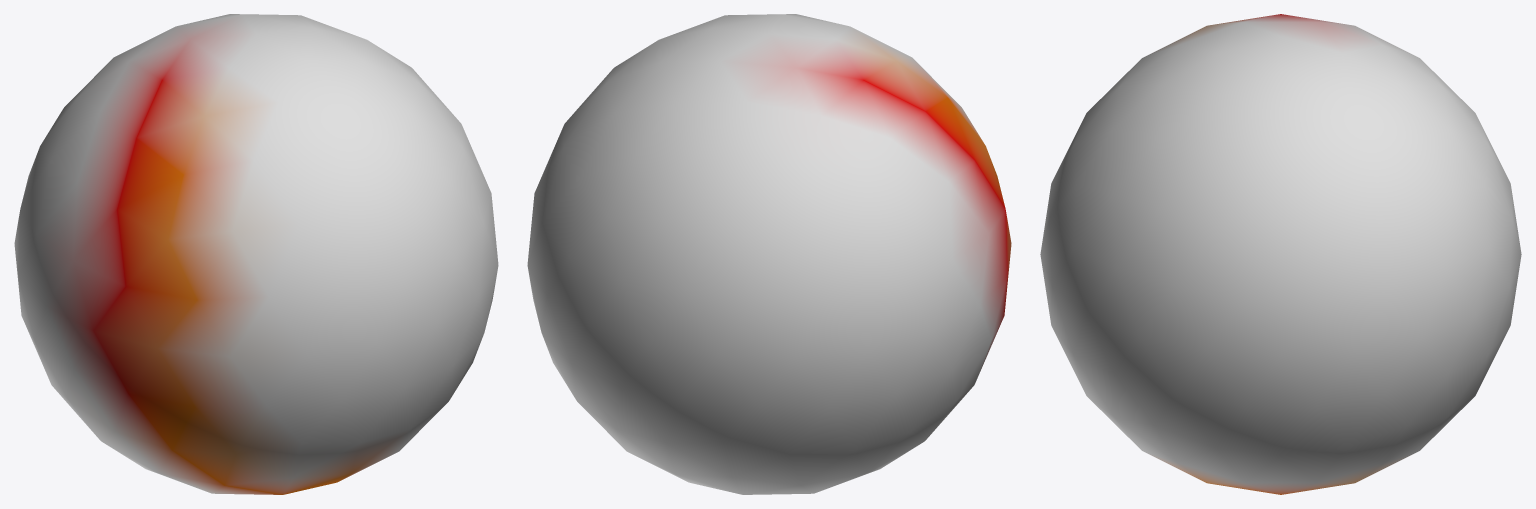
The model's file is SphereVertexColor.FBX.
3 views of the same model, side by side, from view 1: azimuth 30°, elevation 25°; view 2: azimuth 150°, elevation 25°; view 3: azimuth 270°, elevation 25° (orthographic).
Visible parts, largest first — view 1: GeoSphere001; view 2: GeoSphere001; view 3: GeoSphere001.
Boxes of the visible parts, x1=… form: GeoSphere001: x1=14, y1=14, x2=498, y2=494; GeoSphere001: x1=527, y1=14, x2=1011, y2=494; GeoSphere001: x1=1040, y1=14, x2=1521, y2=494.
Size of the model in its own units: 87.11 by 87.11 by 87.11.
